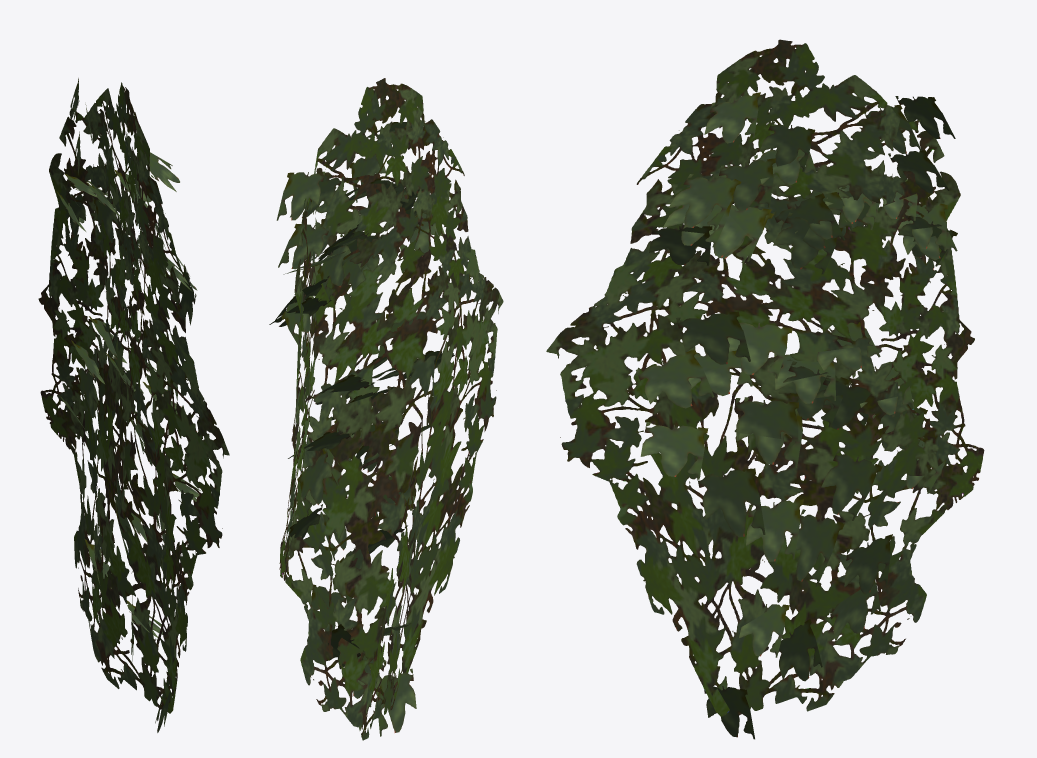
Rendered from SM_ivy_02.glb.
3 views of the same model, side by side, from view 1: azimuth 30°, elevation 25°; view 2: azimuth 150°, elevation 25°; view 3: azimuth 270°, elevation 25° (orthographic). The views are drawn at different scales.
Visible parts, largest first — view 1: SM_ivy_02; view 2: SM_ivy_02; view 3: SM_ivy_02.
Part boxes in pixels (x1,y1,x2,y2): SM_ivy_02: (38, 78, 229, 732); SM_ivy_02: (269, 78, 503, 740); SM_ivy_02: (546, 39, 984, 739).
Size of the model in its own units: 0.2133 by 2.5 by 1.54.
Materials: 1 (1 with a texture image).
